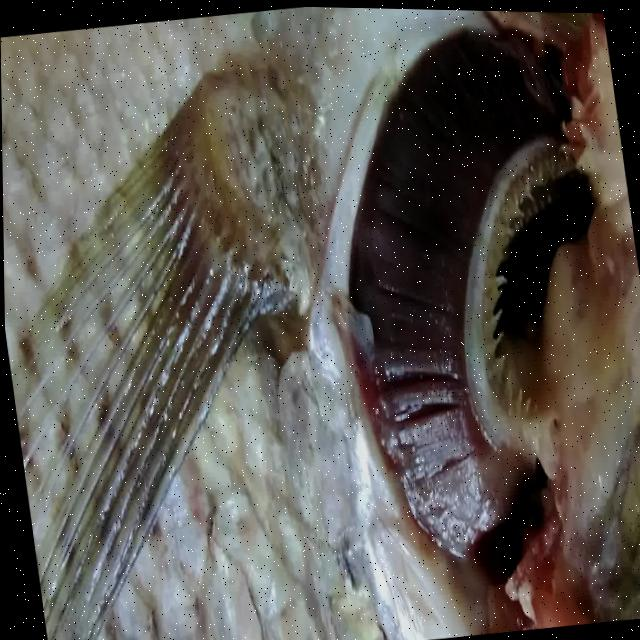Non-Fresh: (292, 12, 595, 568)
